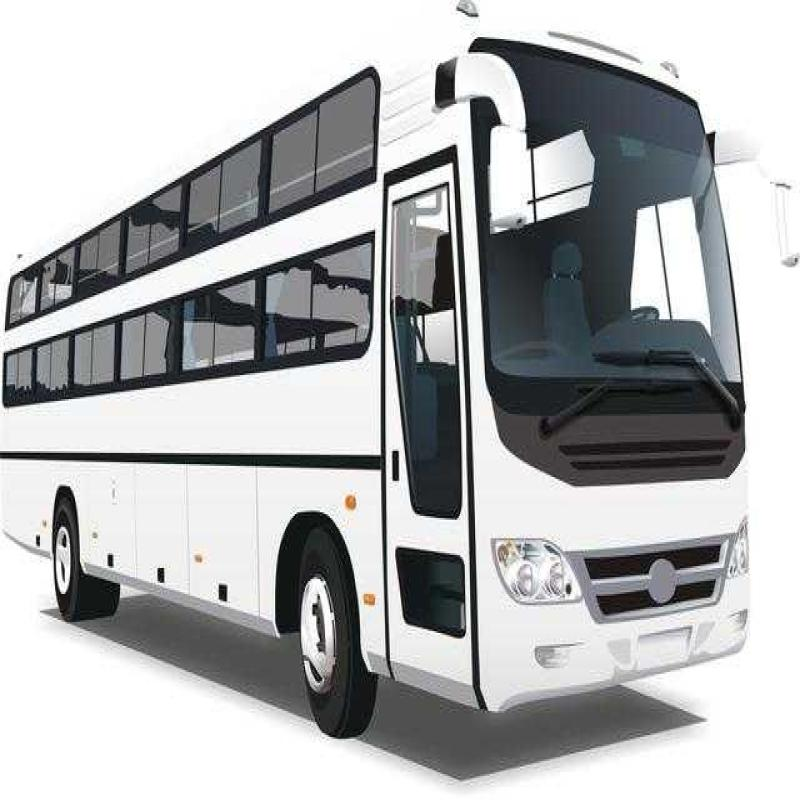bus: (21, 5, 770, 768)
